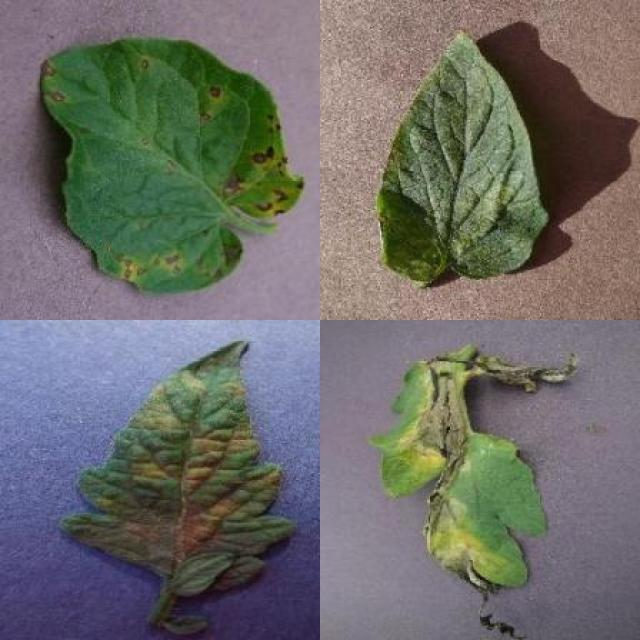Late Blight: (366, 345, 579, 640)
Leaf Mold: (62, 338, 297, 596)
Septoria: (43, 38, 306, 302)
Spider Mites: (377, 29, 549, 281)
